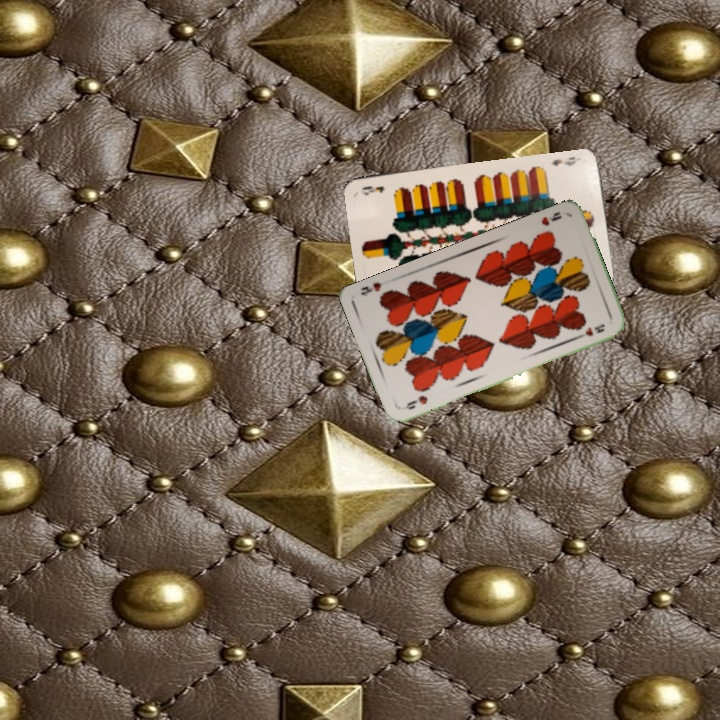E9: (547, 153, 578, 168)
H9: (537, 207, 565, 229), (402, 391, 430, 412)
